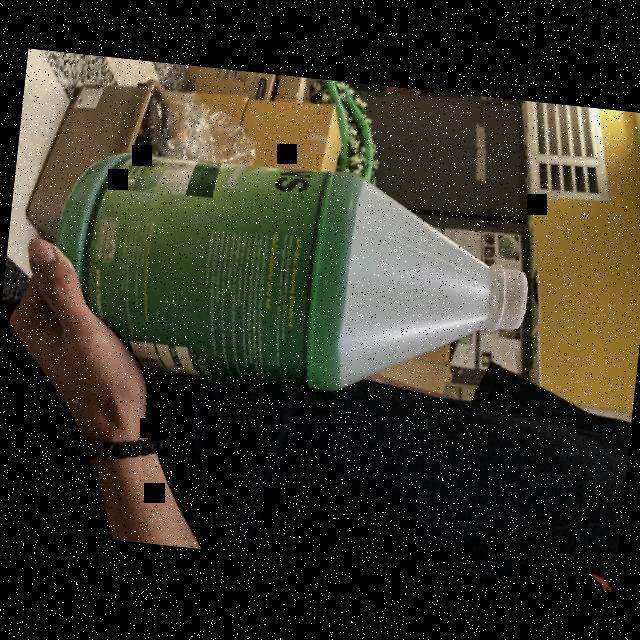chemical_plastic_gallon: (32, 140, 542, 420)
